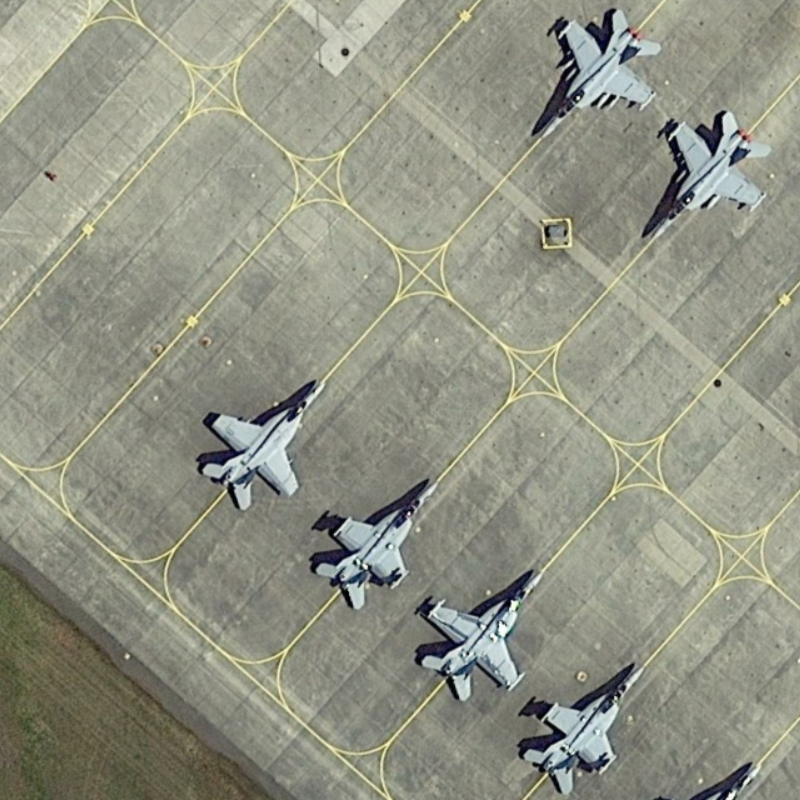A16: (630, 101, 783, 245), (407, 557, 549, 710), (519, 3, 670, 145), (186, 369, 331, 516), (302, 471, 443, 617), (515, 654, 661, 795)
